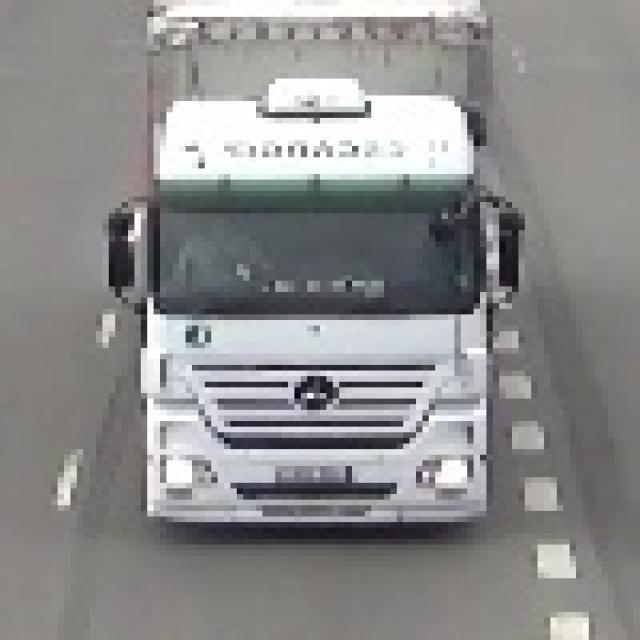TRUCK: (140, 0, 493, 544)
